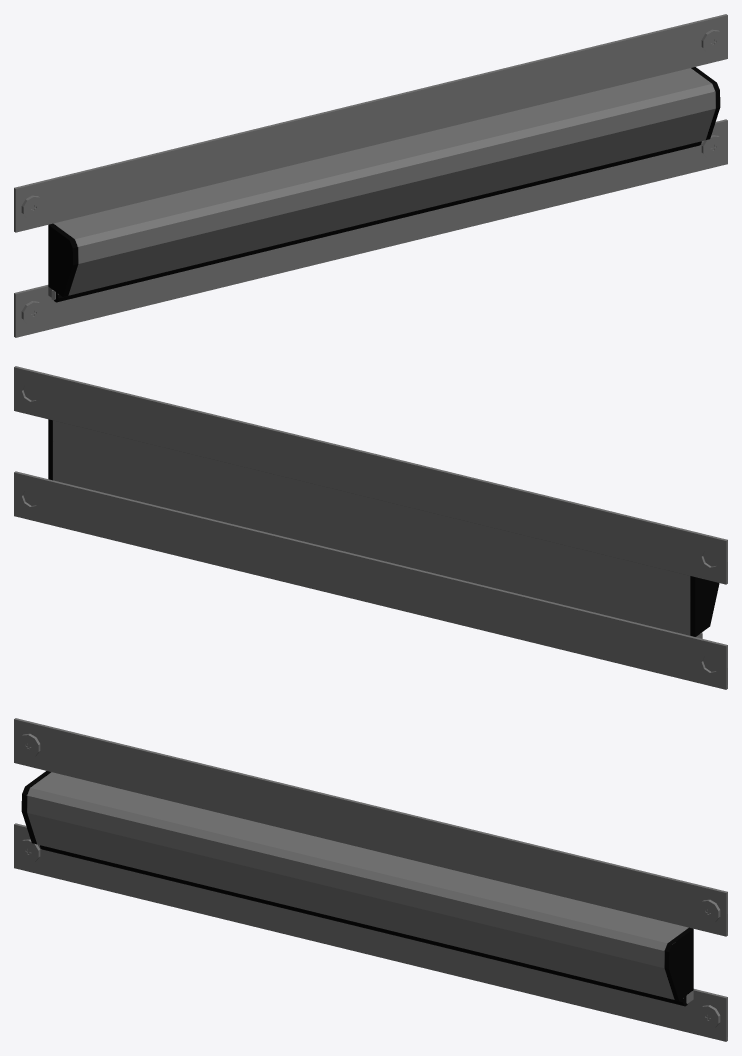
Rendered from MC_TicketHolder.fbx.
3 views of the same model, one above another, from view 1: azimuth 30°, elevation 25°; view 2: azimuth 150°, elevation 25°; view 3: azimuth 330°, elevation 25° (orthographic).
Parts seen in each view (by area): view 1: Circle.001; view 2: Circle.001; view 3: Circle.001.
Boxes of the visible parts, x1=… form: Circle.001: x1=14, y1=14, x2=727, y2=337; Circle.001: x1=14, y1=366, x2=727, y2=689; Circle.001: x1=14, y1=718, x2=727, y2=1041.
Bounding box in the file's own units: 2421 × 483 × 156.
1 material, 1 textured.
